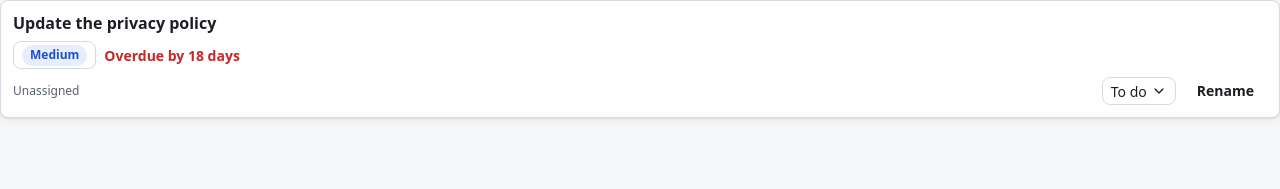
Test: Rename opens the title editor, and Escape closes it
Step 1. Click the button with aria-label "Rename Update the privacy policy" → (1225, 91), box [1184, 77, 1267, 105]
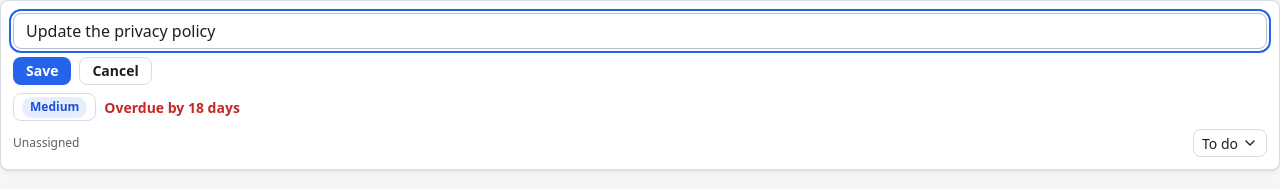
Expected: the field named "Task title" holds "Update the privacy policy", [13, 13, 1267, 49]
Step 2. Press Escape
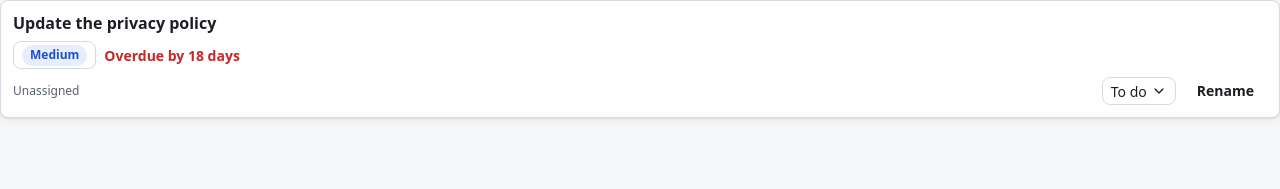
Expected: the link "Update the privacy policy" is shown, [13, 12, 216, 34]
